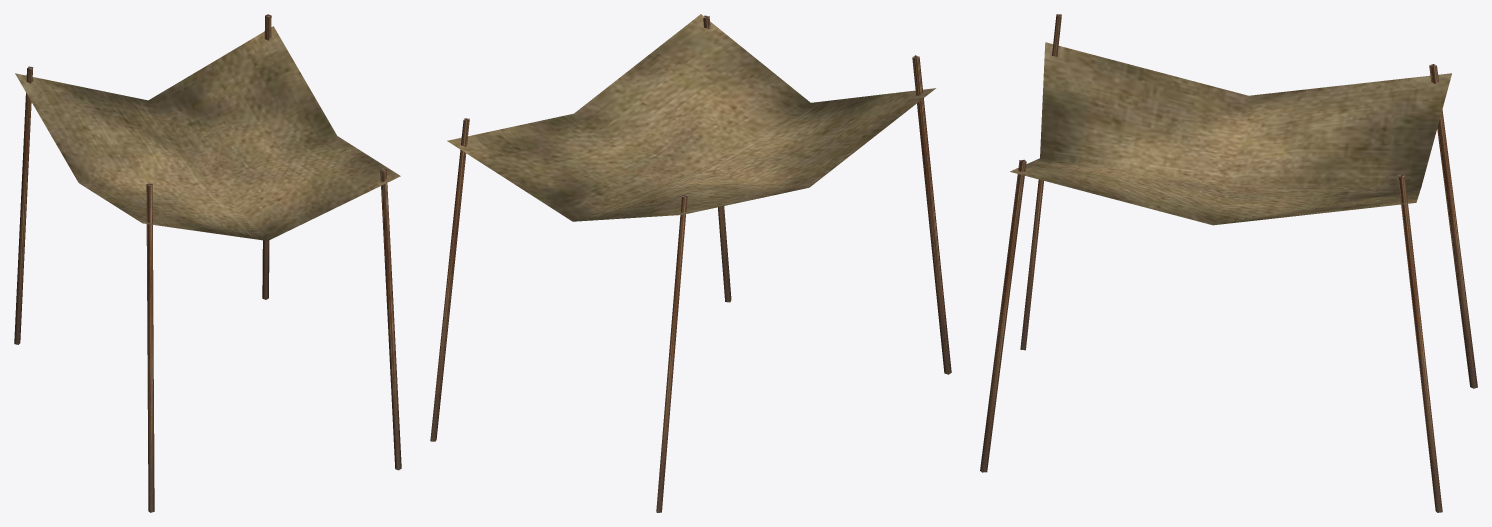
File: toy57.obj
3 renders of one model, left to right at view 1: azimuth 30°, elevation 25°; view 2: azimuth 150°, elevation 25°; view 3: azimuth 270°, elevation 25°, orthographic. The views are drawn at different scales.
Parts seen in each view (by area): view 1: toy57; view 2: toy57; view 3: toy57.
Part boxes in pixels (bbox=[...]): toy57: bbox=[14, 14, 401, 512]; toy57: bbox=[430, 14, 951, 512]; toy57: bbox=[980, 14, 1477, 512].
Size of the model in its own units: 62.14 by 60.06 by 79.2.
